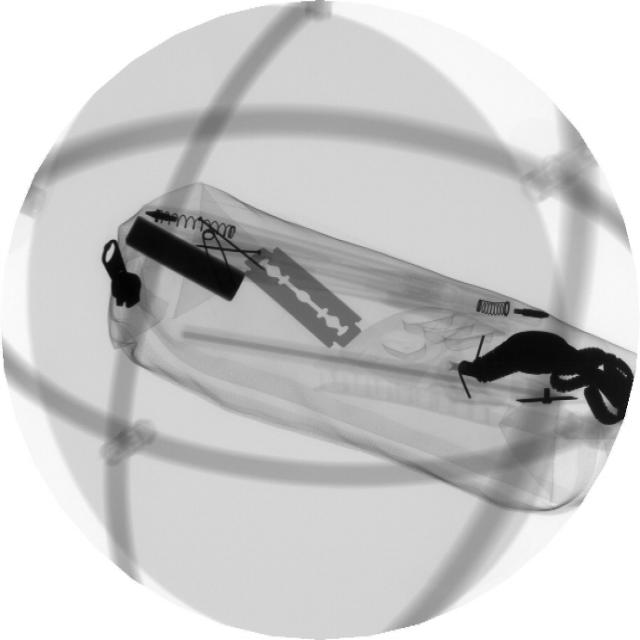BLADE: (236, 236, 371, 356)
